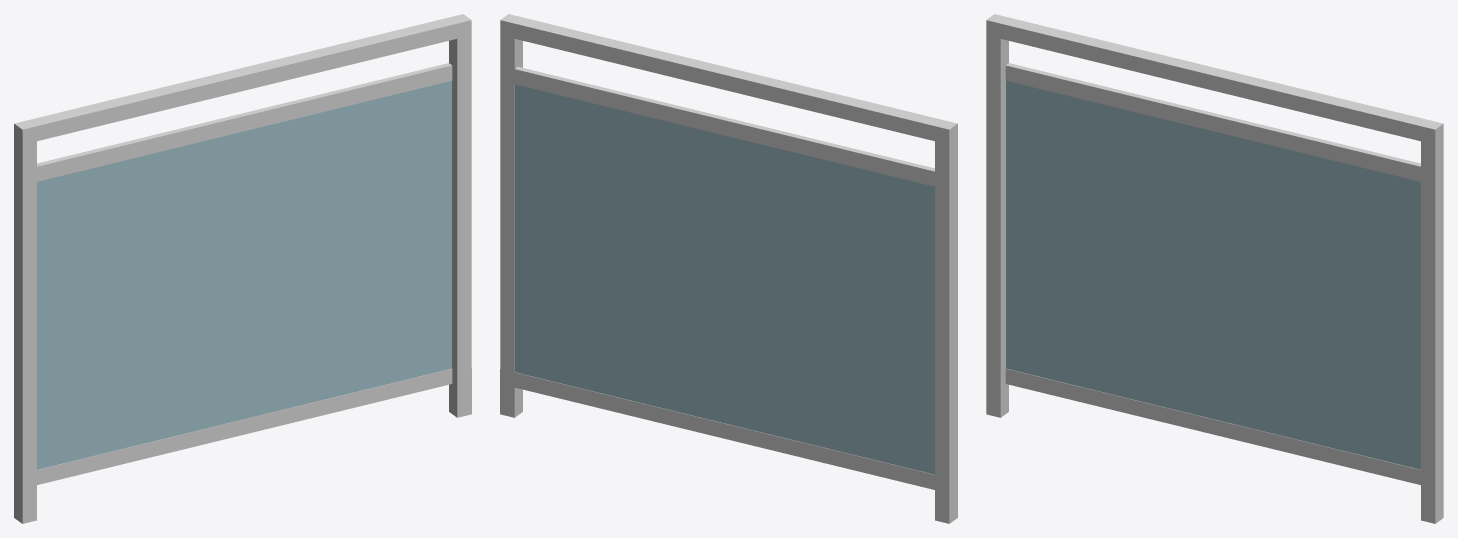
Rendered from sweethome3d-contributions-railing-glass.glb.
3 renders of one model, left to right at view 1: azimuth 30°, elevation 25°; view 2: azimuth 150°, elevation 25°; view 3: azimuth 330°, elevation 25°, orthographic.
Visible parts, largest first — view 1: 2_2, 1_1; view 2: 2_2, 1_1; view 3: 2_2, 1_1.
Part boxes in pixels (x1,y1,x2,y2): 2_2: [37, 80, 451, 469]; 1_1: [14, 14, 471, 523]; 2_2: [515, 84, 934, 474]; 1_1: [500, 14, 957, 523]; 2_2: [1006, 81, 1420, 469]; 1_1: [986, 14, 1443, 523].
Size of the model in its own units: 155 by 130 by 5.
